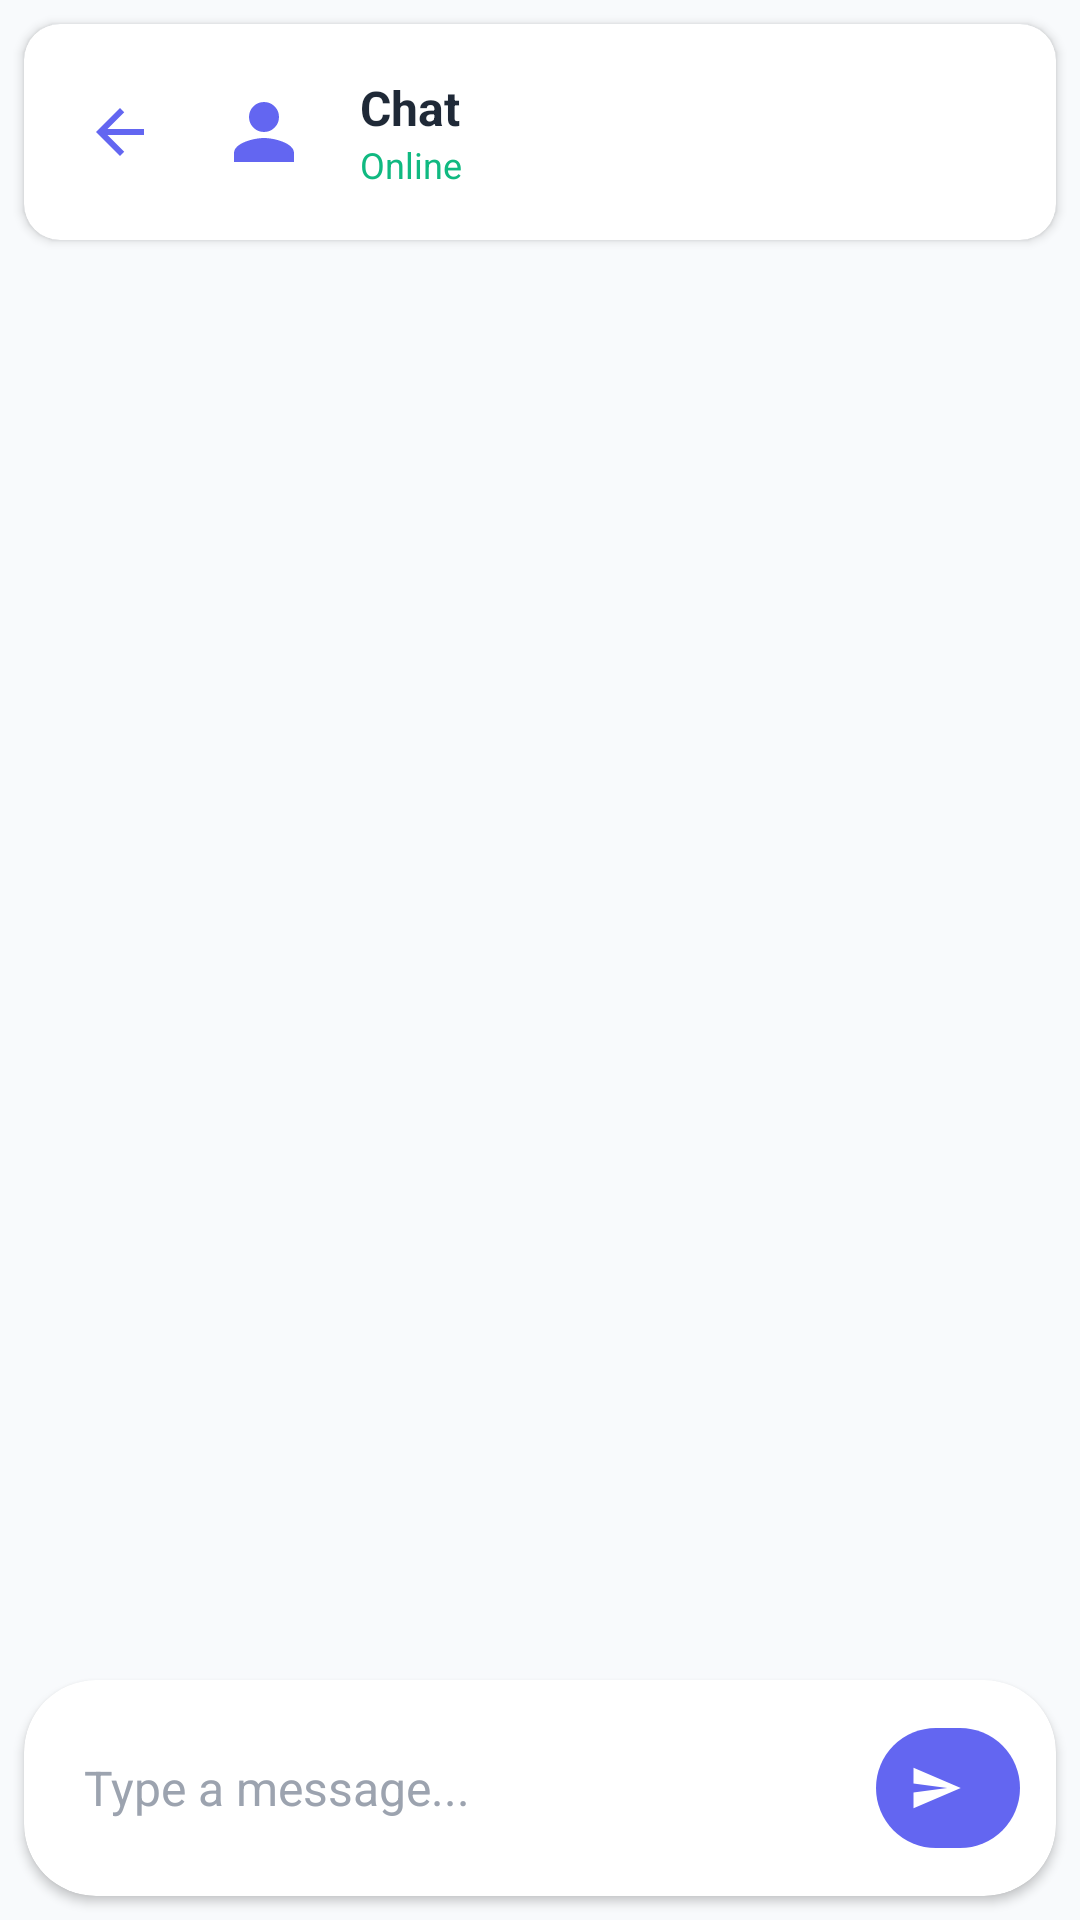

Icons on this 1080 x 1920 Android screen, each with its box as (x1, y1, x2, y2):
Back: (96, 108, 144, 156)
User Avatar: (234, 102, 294, 162)
